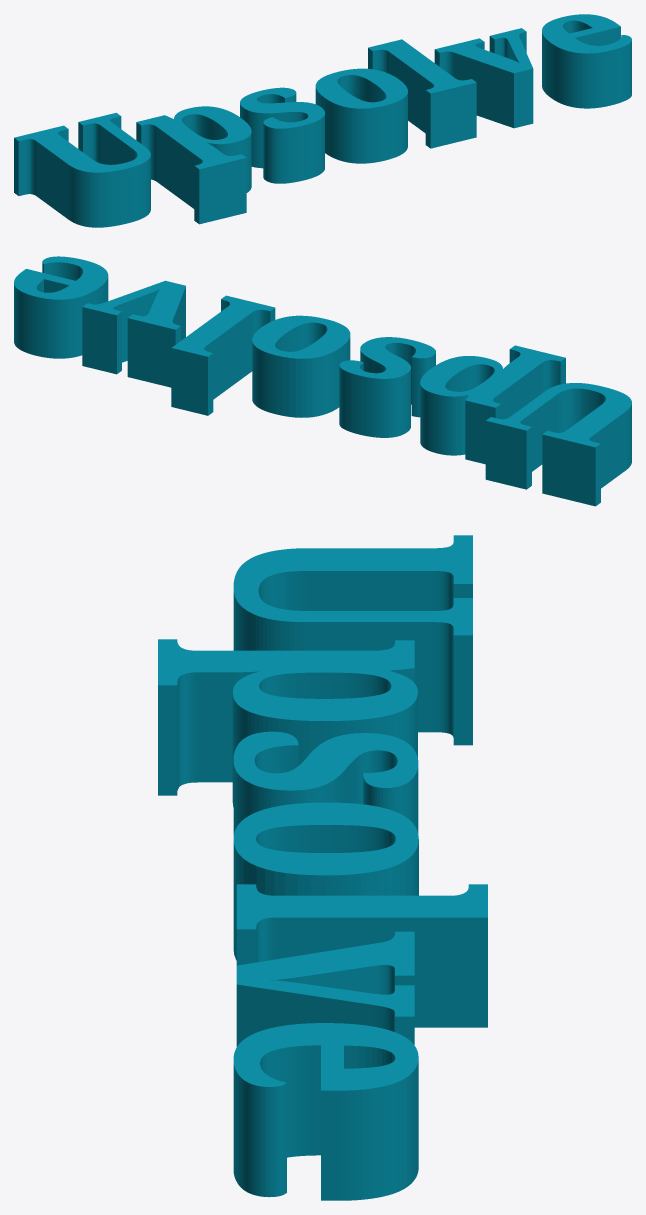
Rendered from UpsolveText.glb.
3 renders of one model, top to bottom at view 1: azimuth 30°, elevation 25°; view 2: azimuth 150°, elevation 25°; view 3: azimuth 270°, elevation 25°, orthographic. The views are drawn at different scales.
Visible parts, largest first — view 1: Mesh_Mesh_head_geo.001_lambert2SG.001; view 2: Mesh_Mesh_head_geo.001_lambert2SG.001; view 3: Mesh_Mesh_head_geo.001_lambert2SG.001.
Boxes of the visible parts, x1=… form: Mesh_Mesh_head_geo.001_lambert2SG.001: x1=14, y1=14, x2=631, y2=227; Mesh_Mesh_head_geo.001_lambert2SG.001: x1=14, y1=256, x2=631, y2=506; Mesh_Mesh_head_geo.001_lambert2SG.001: x1=158, y1=535, x2=487, y2=1200.
Bounding box in the file's own units: 111 × 10.28 × 27.95.
